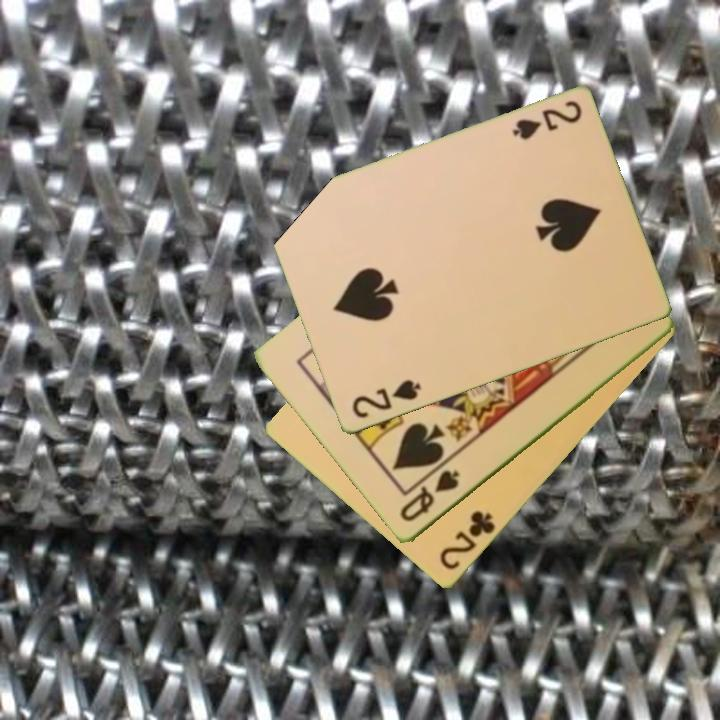2c: (436, 507, 499, 574)
2s: (508, 97, 585, 144), (348, 376, 424, 422)
Qs: (396, 466, 463, 526)
